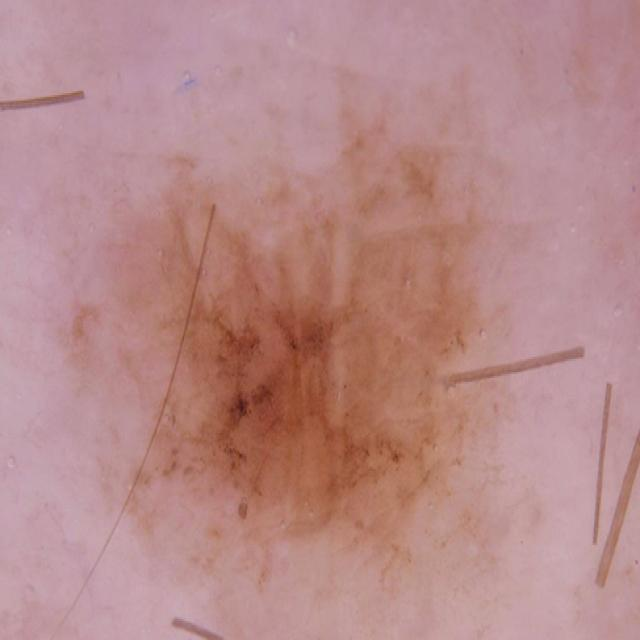Keratosis: (100, 155, 514, 605)
